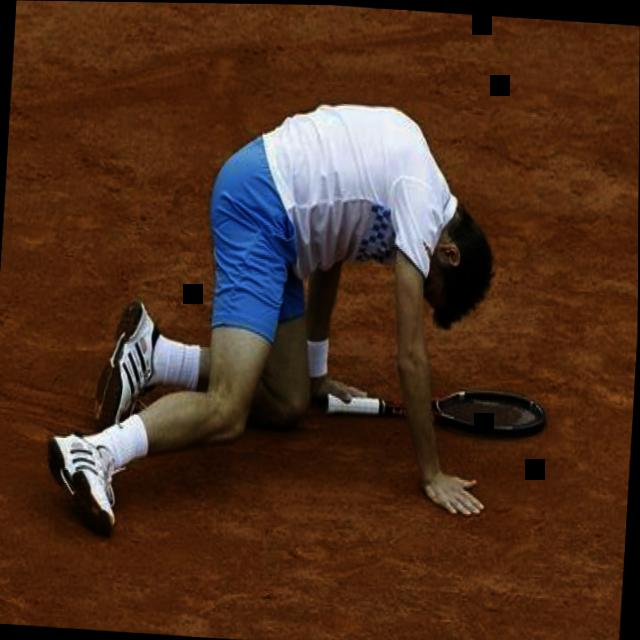Fall-Detected: (58, 31, 511, 557)
